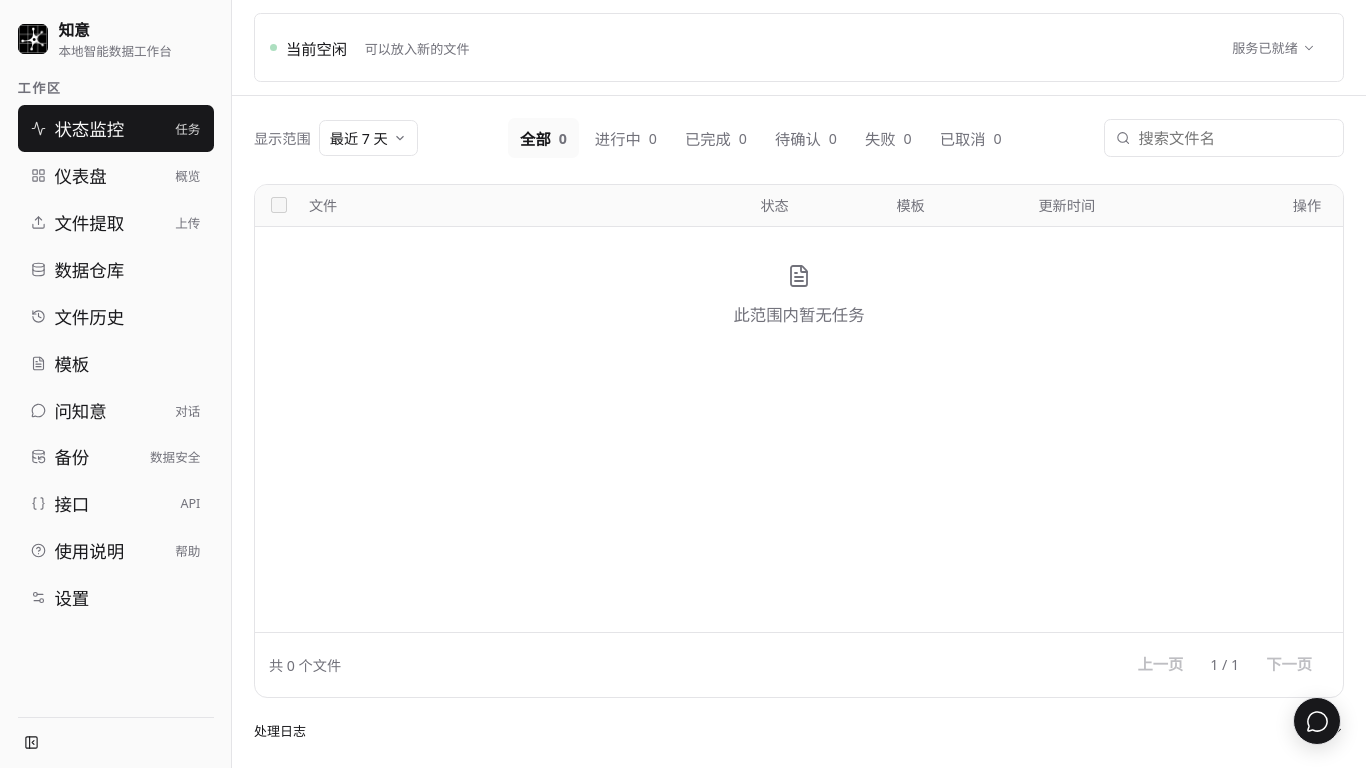
Test: App › shows the primary file-to-data workflow
Expected: the element named "任务状态筛选" is shown, [508, 118, 1014, 158]
Expected: the table is shown, [255, 185, 1343, 227]
Click the button "文件提取 上传".
click(116, 223)  # box [18, 199, 214, 246]
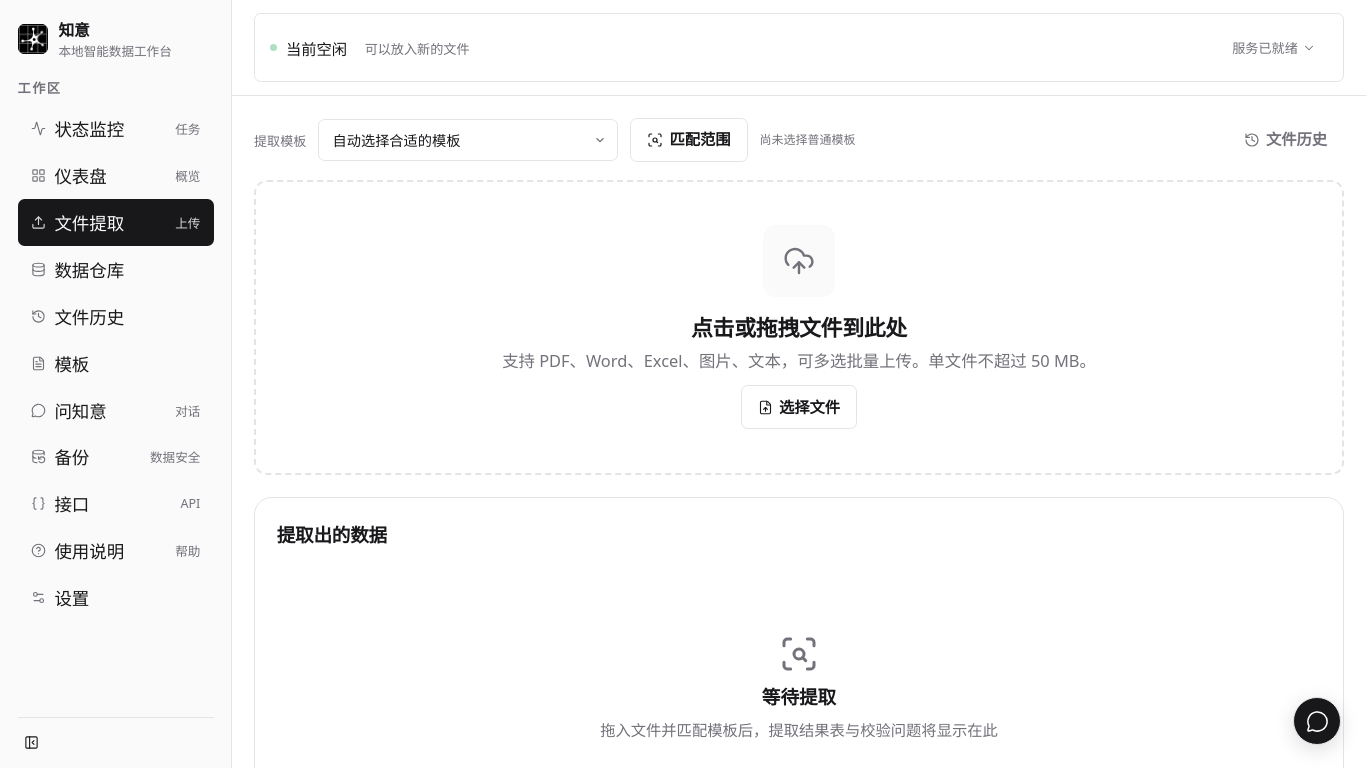
Now the heading "提取出的数据" is shown, box [277, 520, 387, 547]
Now the text "拖入文件并匹配模板后，提取结果表与校验问题将显示在此" is shown, box [600, 718, 998, 740]
